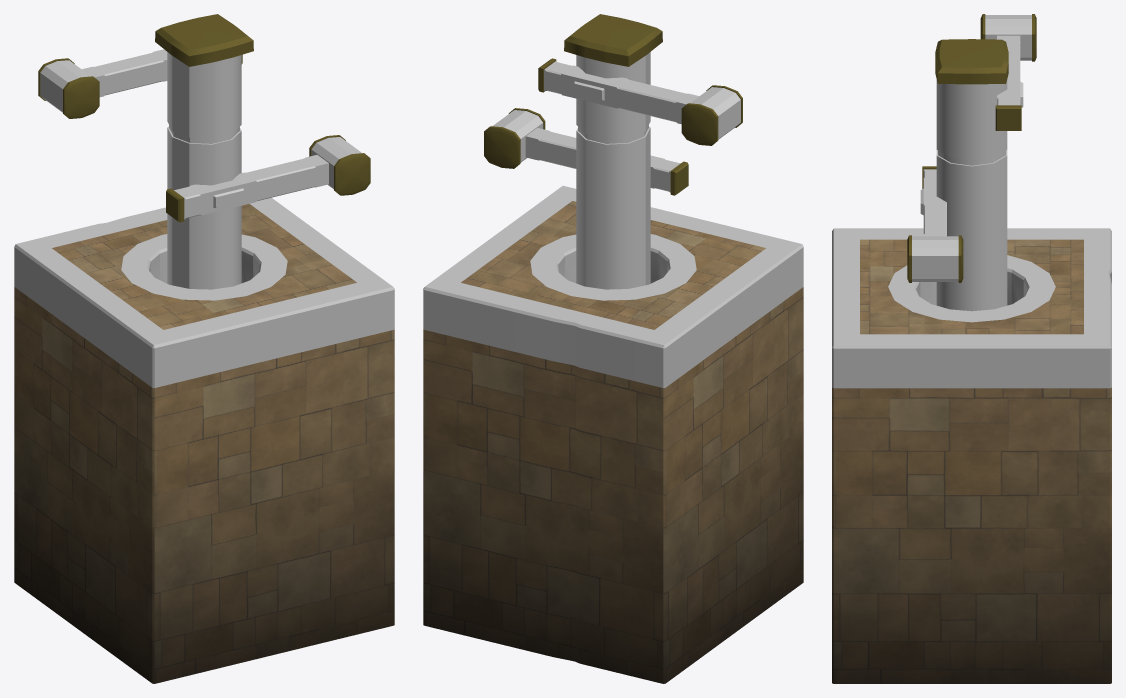
File: PlatformSmallHazardSpinning.fbx
3 views of the same model, side by side, from view 1: azimuth 30°, elevation 25°; view 2: azimuth 150°, elevation 25°; view 3: azimuth 270°, elevation 25° (orthographic).
Visible parts, largest first — view 1: PlatformSmallHazardSpinning_Floor, PostBottom, PostTop; view 2: PlatformSmallHazardSpinning_Floor, PostBottom, PostTop; view 3: PlatformSmallHazardSpinning_Floor, PostBottom, PostTop.
Part boxes in pixels (left/top/right/bottom): PlatformSmallHazardSpinning_Floor: left=14, top=197, right=394, bottom=683; PostBottom: left=166, top=126, right=370, bottom=289; PostTop: left=38, top=14, right=253, bottom=143; PlatformSmallHazardSpinning_Floor: left=423, top=185, right=803, bottom=683; PostBottom: left=484, top=108, right=688, bottom=289; PostTop: left=538, top=14, right=742, bottom=145; PlatformSmallHazardSpinning_Floor: left=832, top=228, right=1111, bottom=683; PostBottom: left=907, top=150, right=1007, bottom=311; PostTop: left=935, top=14, right=1036, bottom=165.
Size of the model in its own units: 334 by 676 by 300.
